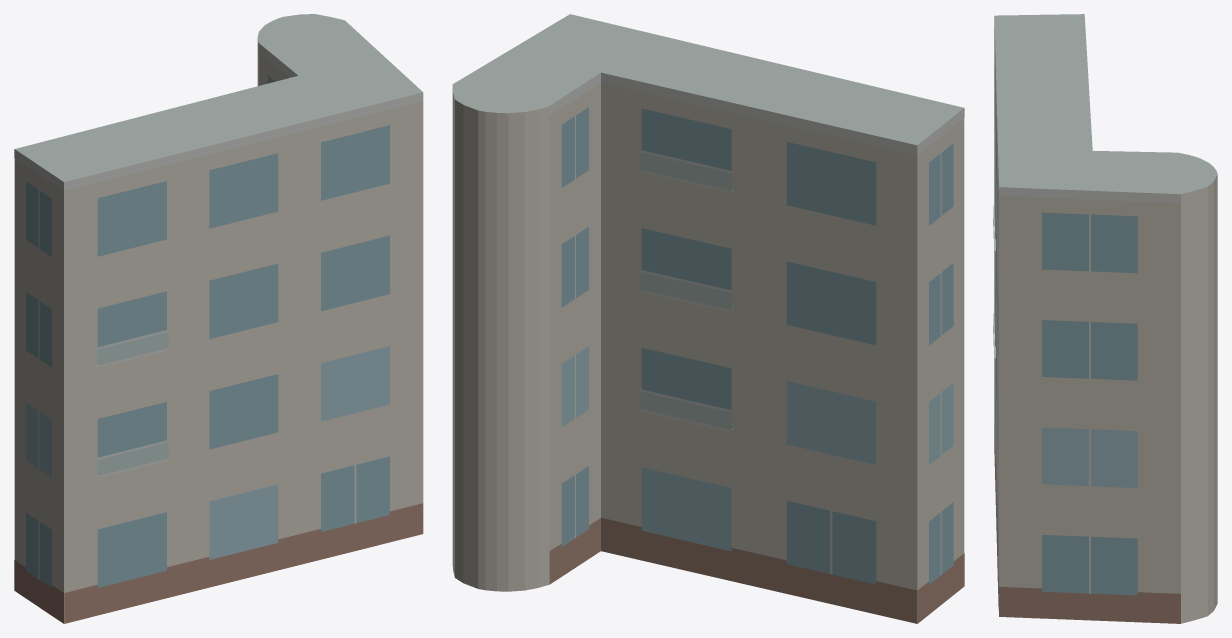
Rendered from survey-upis-32469323.glb.
3 renders of one model, left to right at view 1: azimuth 30°, elevation 25°; view 2: azimuth 150°, elevation 25°; view 3: azimuth 270°, elevation 25°, orthographic. The views are drawn at different scales.
Visible parts, largest first — view 1: survey-upis-32469323.tmp; view 2: survey-upis-32469323.tmp; view 3: survey-upis-32469323.tmp.
Boxes of the visible parts, x1,y1,x2,y2 form: survey-upis-32469323.tmp: [14, 14, 423, 623]; survey-upis-32469323.tmp: [452, 14, 964, 623]; survey-upis-32469323.tmp: [993, 14, 1217, 623].
Bounding box in the file's own units: 10.76 × 11.95 × 5.66.
